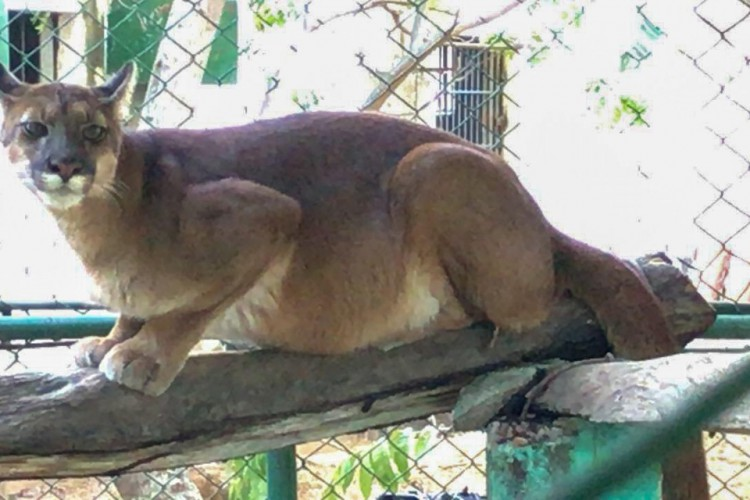OncaParda: (5, 58, 680, 399)
